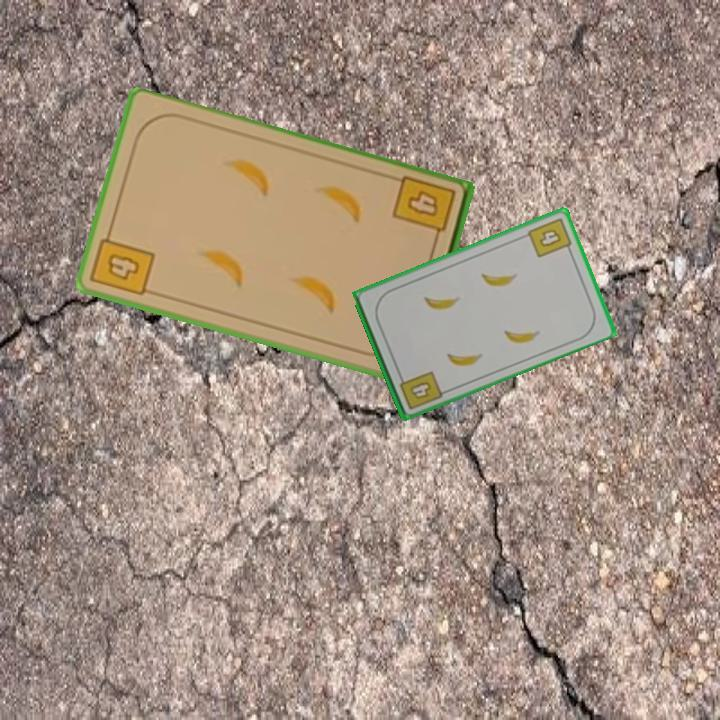4b: (389, 173, 459, 249), (88, 225, 158, 300), (524, 214, 575, 260), (395, 367, 445, 412)
